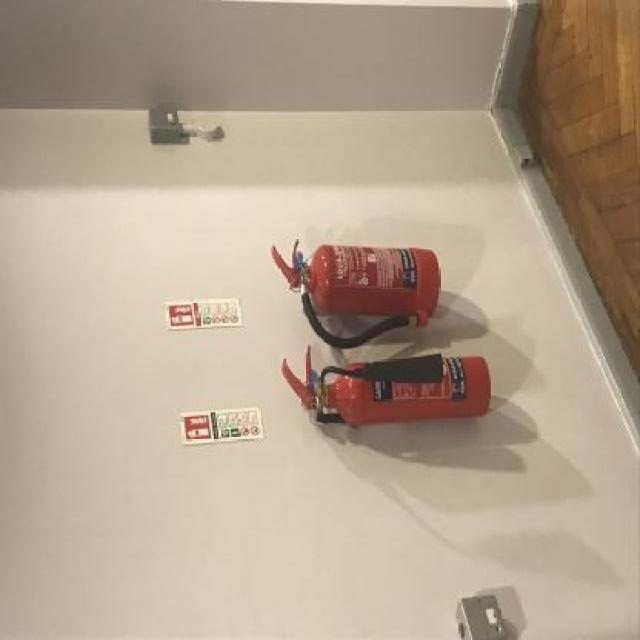fire extinguisher: (280, 344, 492, 431), (271, 241, 440, 348)
